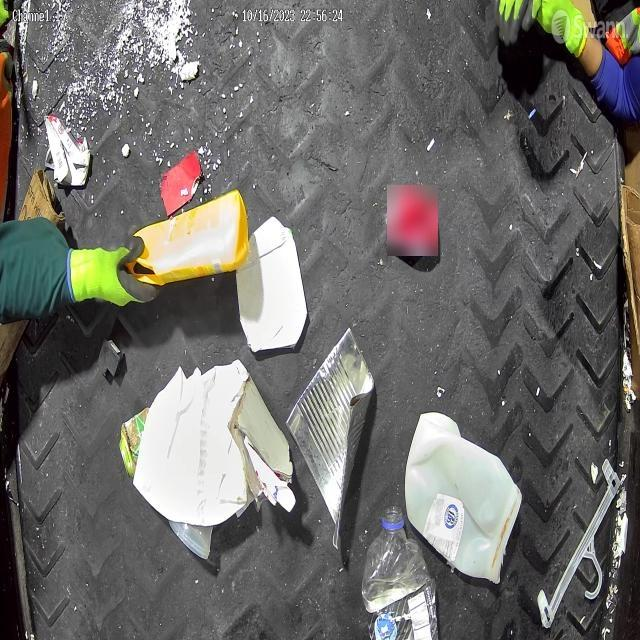milk_jug: (404, 412, 522, 585)
non_white_jug: (128, 191, 249, 287)
plastic_bottle: (362, 506, 438, 640)
